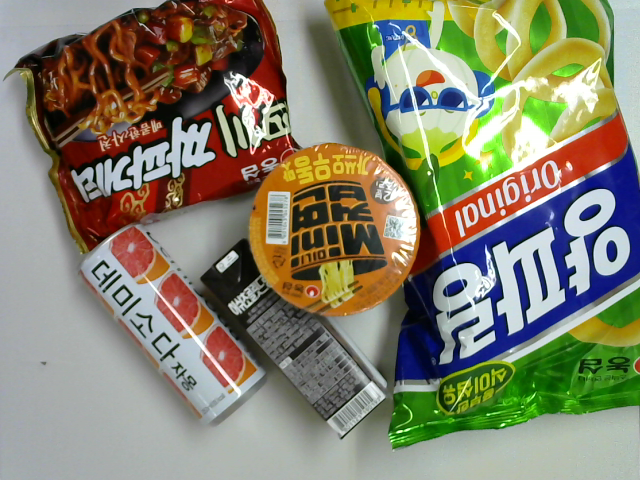Demisoda_Grapefruit_Can_250ml: (77, 221, 269, 434)
Hush_Choco_Drink: (198, 236, 392, 446)
Oninon_Ring: (323, 1, 639, 456)
Sichuan_Chapaghetti: (3, 1, 307, 255)
Udongmini: (248, 140, 424, 319)
